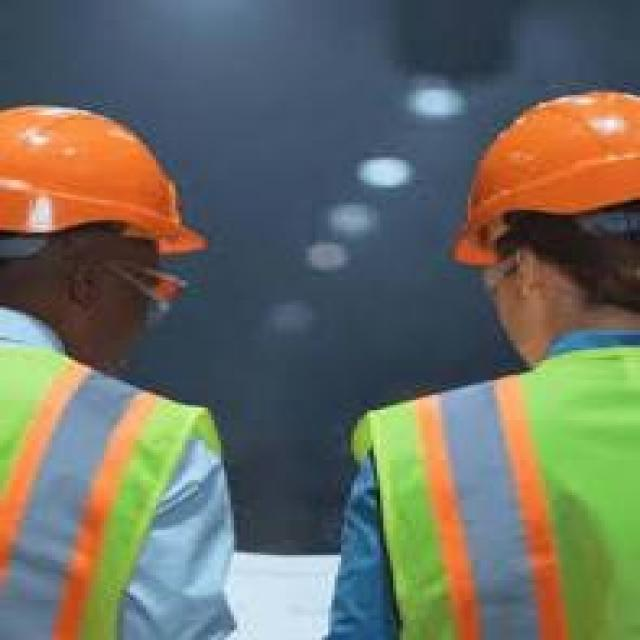Reflective-Jacket: (348, 343, 634, 635), (0, 300, 240, 637)
Safety-Helmet: (438, 80, 636, 258), (0, 98, 211, 260)
